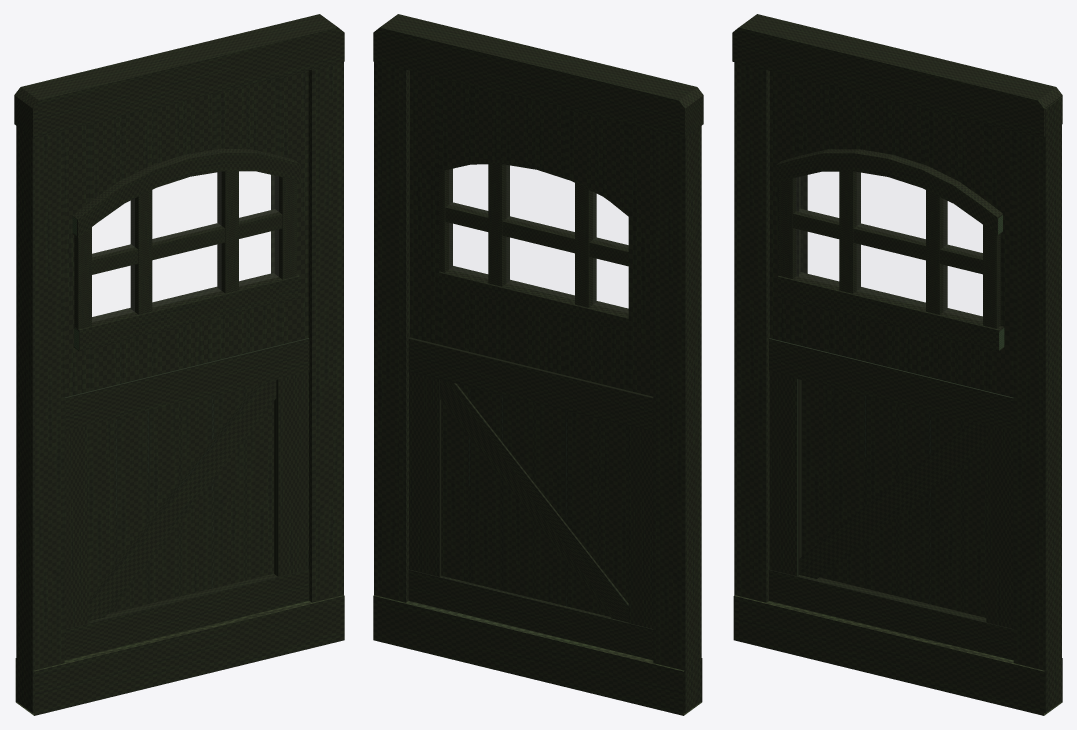
3 renders of one model, left to right at view 1: azimuth 30°, elevation 25°; view 2: azimuth 150°, elevation 25°; view 3: azimuth 330°, elevation 25°, orthographic.
Visible parts, largest first — view 1: Door_1_Flat; view 2: Door_1_Flat; view 3: Door_1_Flat.
Boxes of the visible parts, box(x1,y1,x2,y2) form: Door_1_Flat: box(14, 14, 344, 715); Door_1_Flat: box(373, 14, 703, 715); Door_1_Flat: box(732, 14, 1062, 715).
Bounding box in the file's own units: 1.12 × 2.1 × 0.1207.
2 materials, 1 textured.
